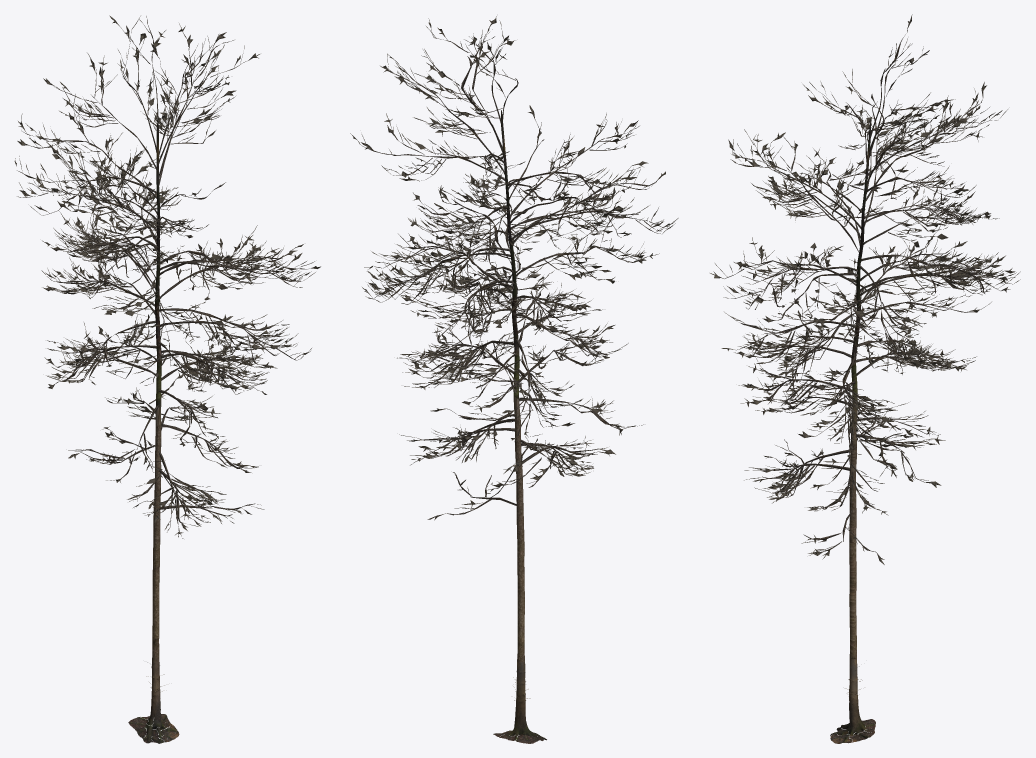
The model's file is tree_pine.glb.
The picture shows the model from 3 angles, left to right: view 1: azimuth 30°, elevation 25°; view 2: azimuth 150°, elevation 25°; view 3: azimuth 270°, elevation 25°; orthographic projection. The views are drawn at different scales.
Parts seen in each view (by area): view 1: pine_tree_01; view 2: pine_tree_01; view 3: pine_tree_01.
Boxes of the visible parts, bbox=[...] form: pine_tree_01: bbox=[14, 15, 320, 743]; pine_tree_01: bbox=[350, 16, 678, 743]; pine_tree_01: bbox=[710, 14, 1020, 743].
Size of the model in its own units: 7.32 by 20.25 by 8.04.
Materials: 4 (4 with a texture image).
